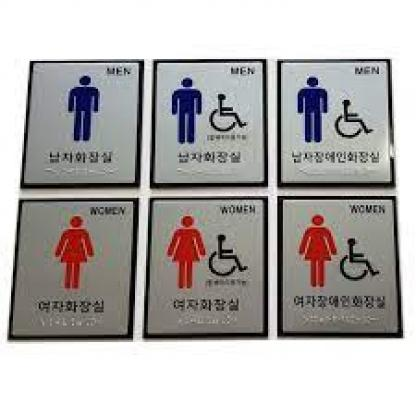toilet: (298, 214, 382, 288), (296, 75, 376, 147), (54, 214, 94, 292), (66, 74, 102, 144), (170, 76, 204, 146), (209, 231, 249, 277)
